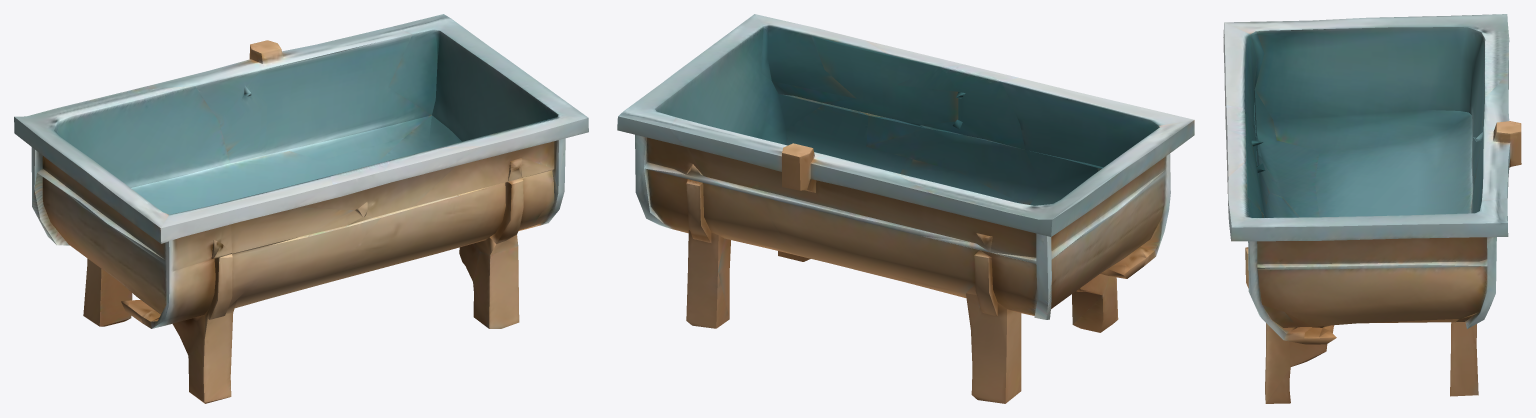
File: waterTrough.glb
3 renders of one model, left to right at view 1: azimuth 30°, elevation 25°; view 2: azimuth 150°, elevation 25°; view 3: azimuth 270°, elevation 25°, orthographic. The views are drawn at different scales.
Visible parts, largest first — view 1: model; view 2: model; view 3: model.
Part boxes in pixels (x1,y1,x2,y2): model: (14,14,588,403); model: (617,14,1194,403); model: (1223,14,1521,403).
Bounding box in the file's own units: 1.89 × 0.9122 × 1.14.
1 material, 1 textured.
